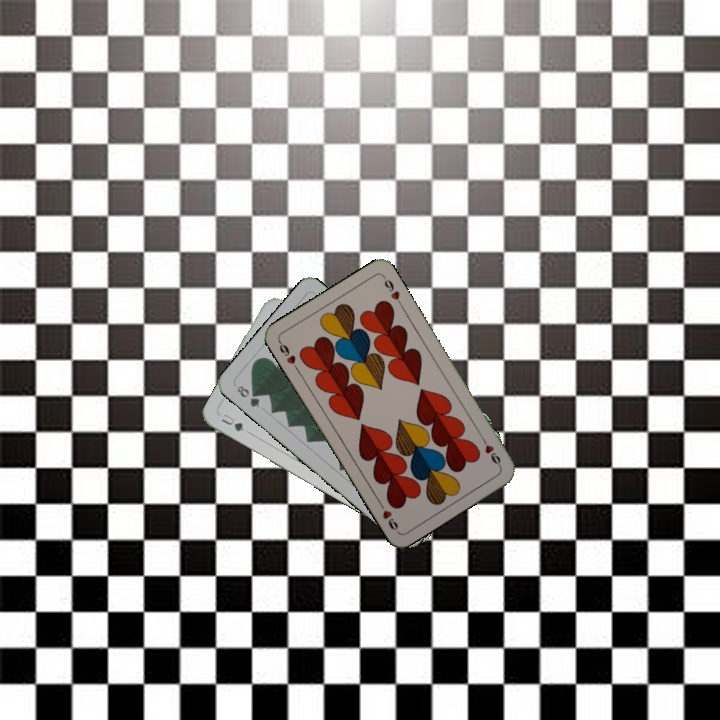G8: (232, 381, 262, 410)
GU: (217, 409, 253, 436)
H9: (274, 337, 301, 373), (478, 433, 503, 470)
